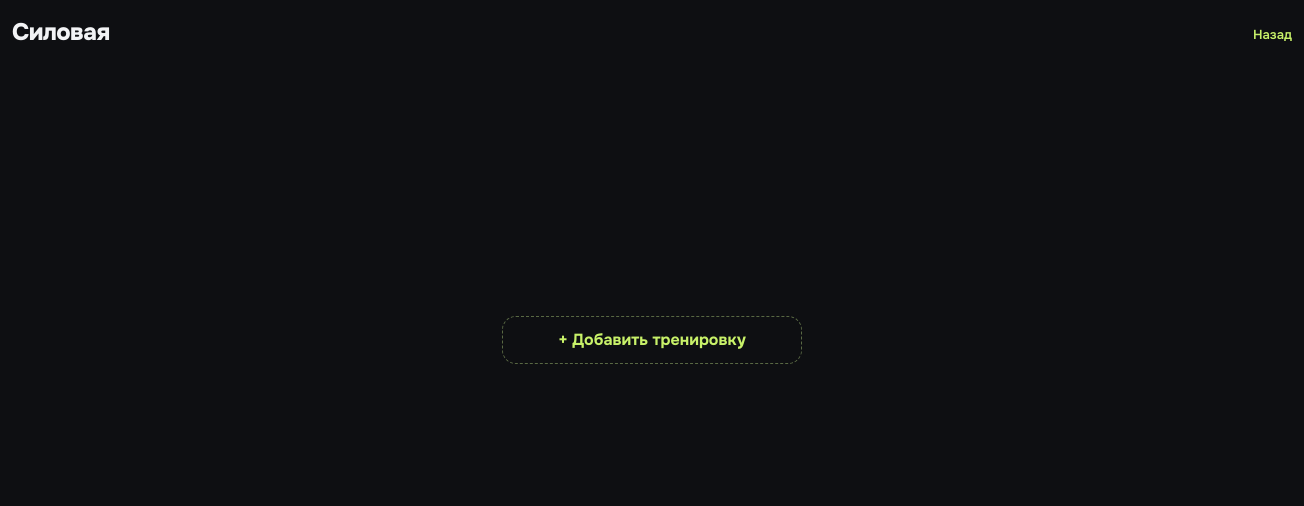
Test: hides empty actions and saves distinct planned weights
Earlier steps of the test are not shown.
Later steps or results of the test are not shown.
Step 1. Click the button "+ Добавить тренировку" → (652, 340), box [502,316,802,364]
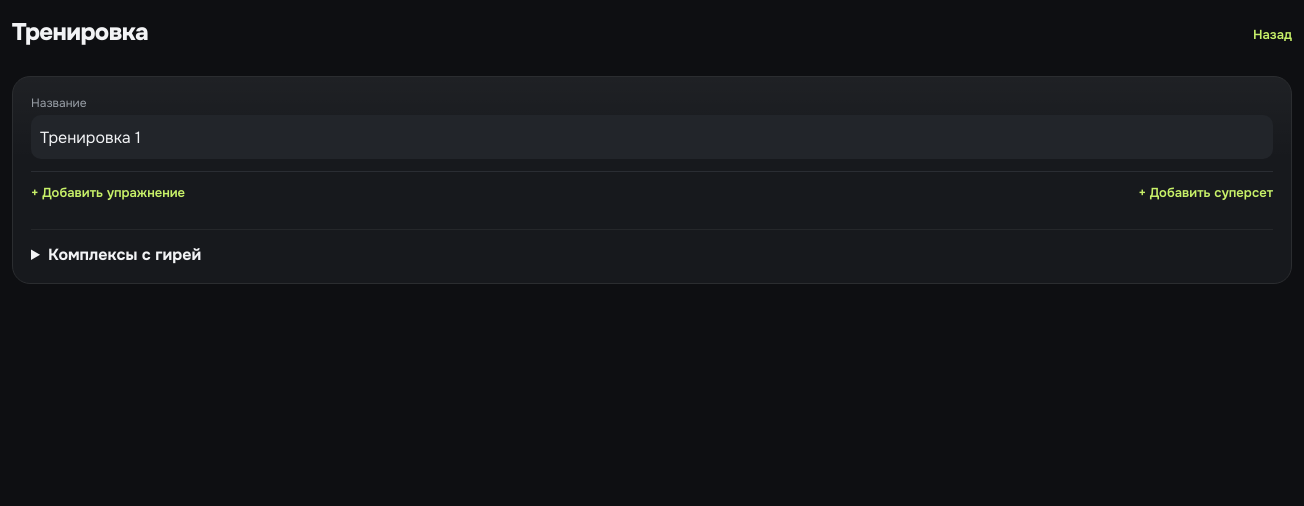
Check: the button "Готово" is not shown
Step 2. Click the button "+ Добавить упражнение" → (108, 192), box [31,184,185,201]
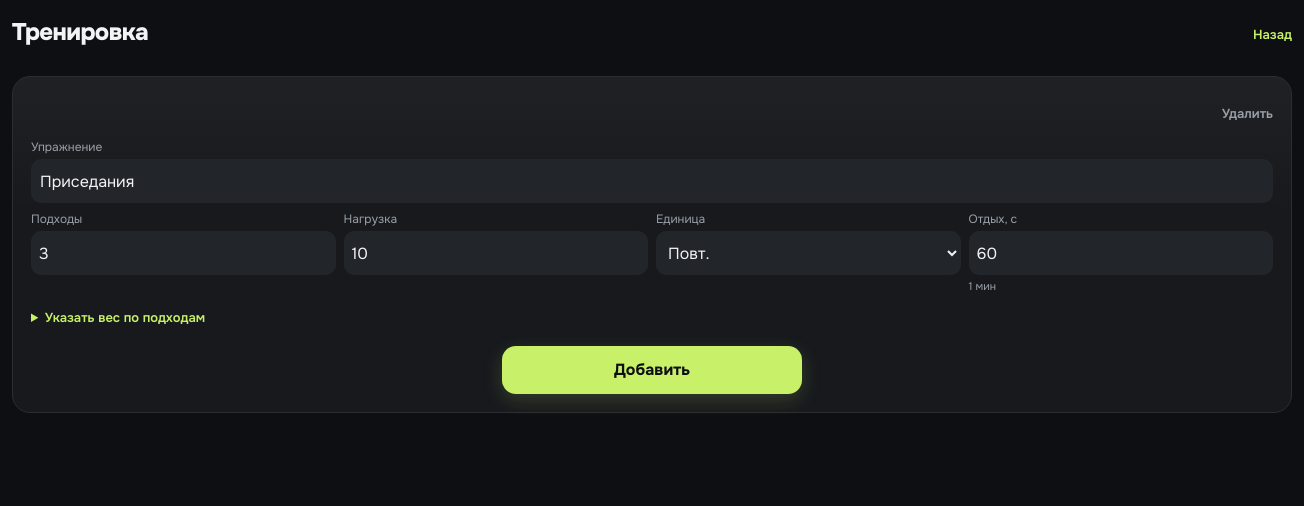
Step 3. Click the heading "Указать вес по подходам" → (125, 318), box [45,309,205,326]
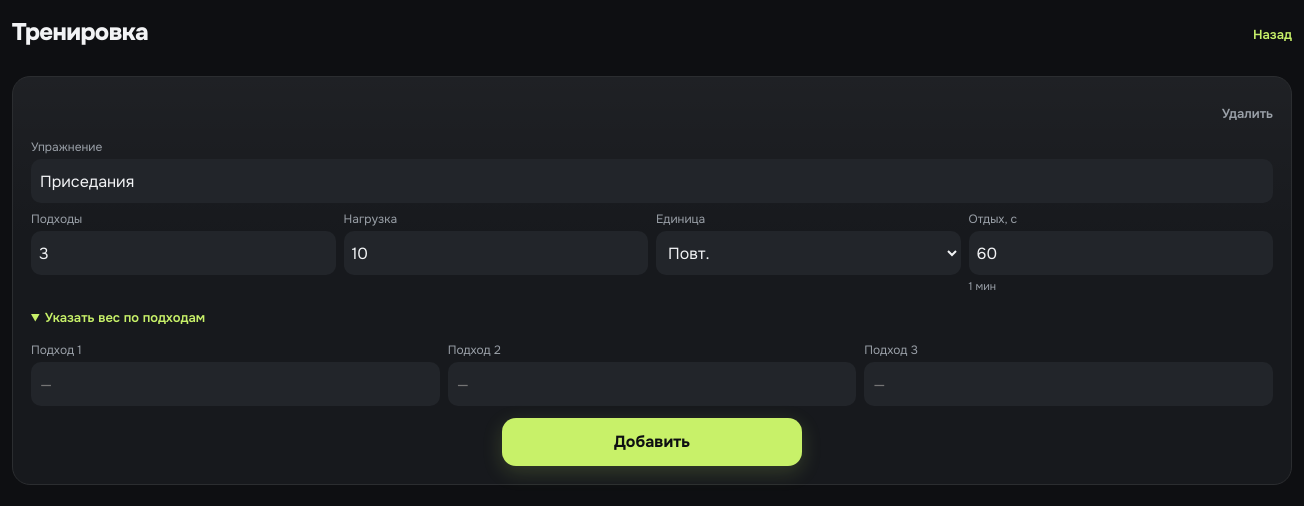
Step 4. Type "20" into the number field named "Упражнение 1, вес подхода 1" → (235, 384), box [31,362,440,406]
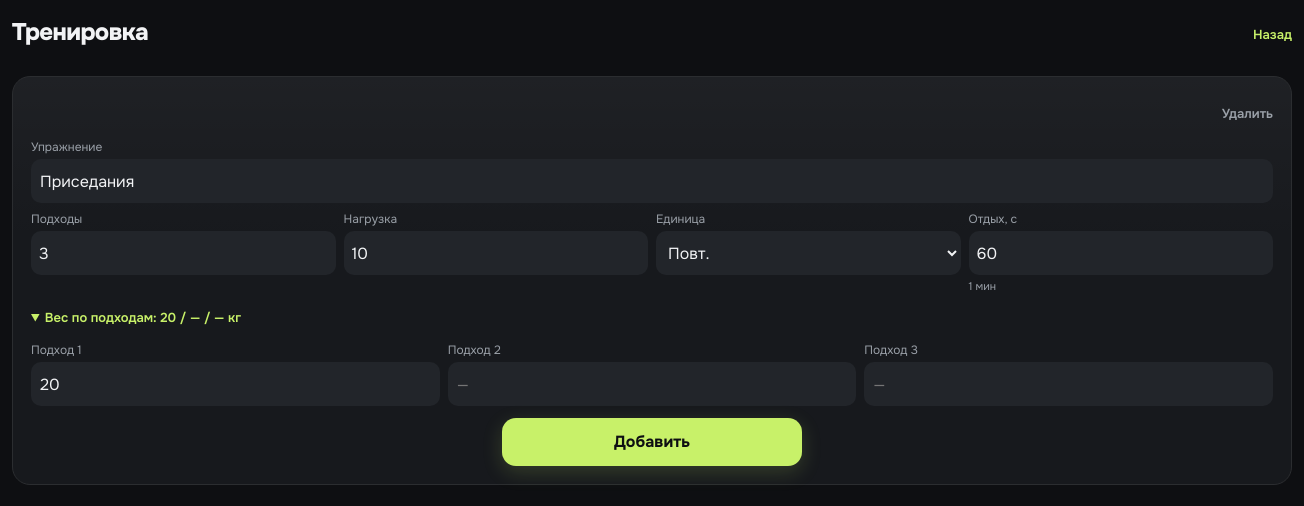
Step 5. Type "25" into the number field named "Упражнение 1, вес подхода 2" → (652, 384), box [448,362,856,406]
Step 6. Click the button "Добавить" → (652, 442), box [502,418,802,466]
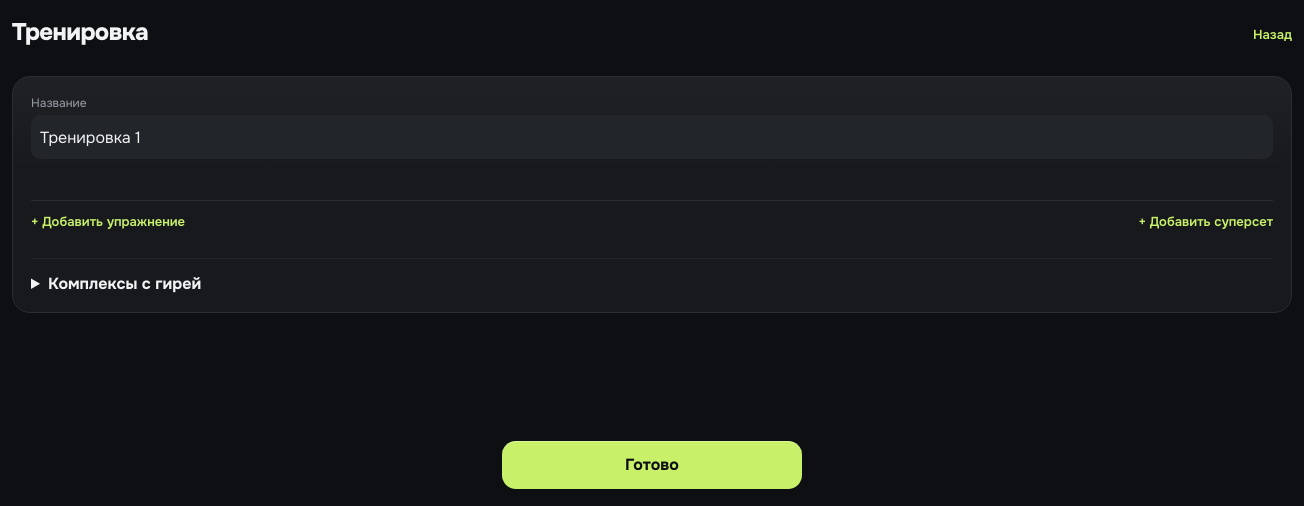
Step 7. Click the button "Готово" → (652, 464), box [502,440,802,488]
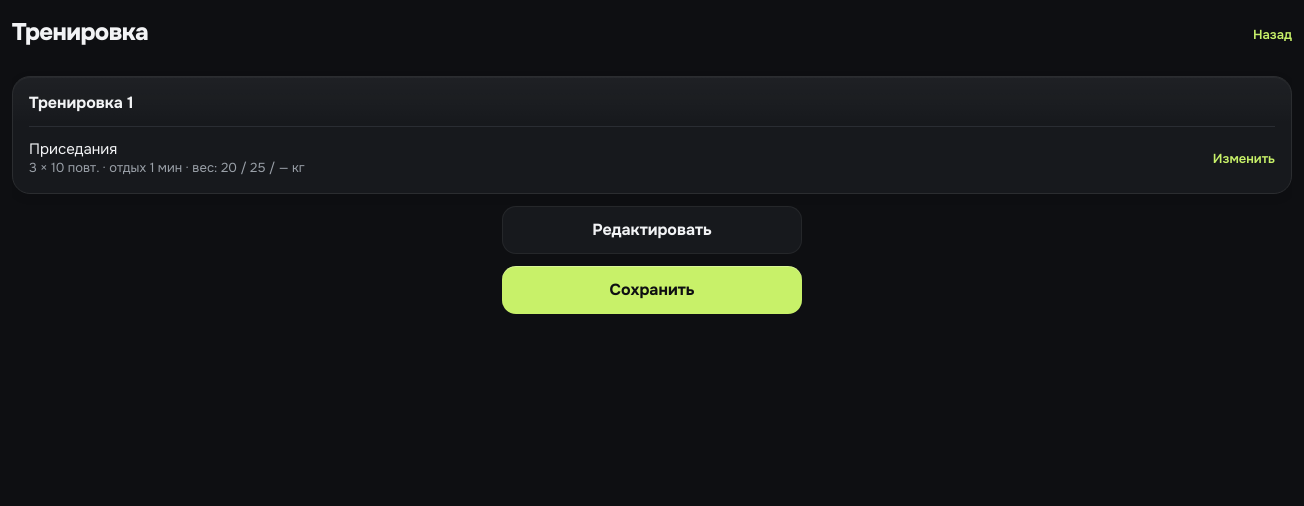
Check: the text "3 × 10 повт. · отдых 1 мин · вес: 20 / 25 / — кг" is shown, box [29,159,305,176]
